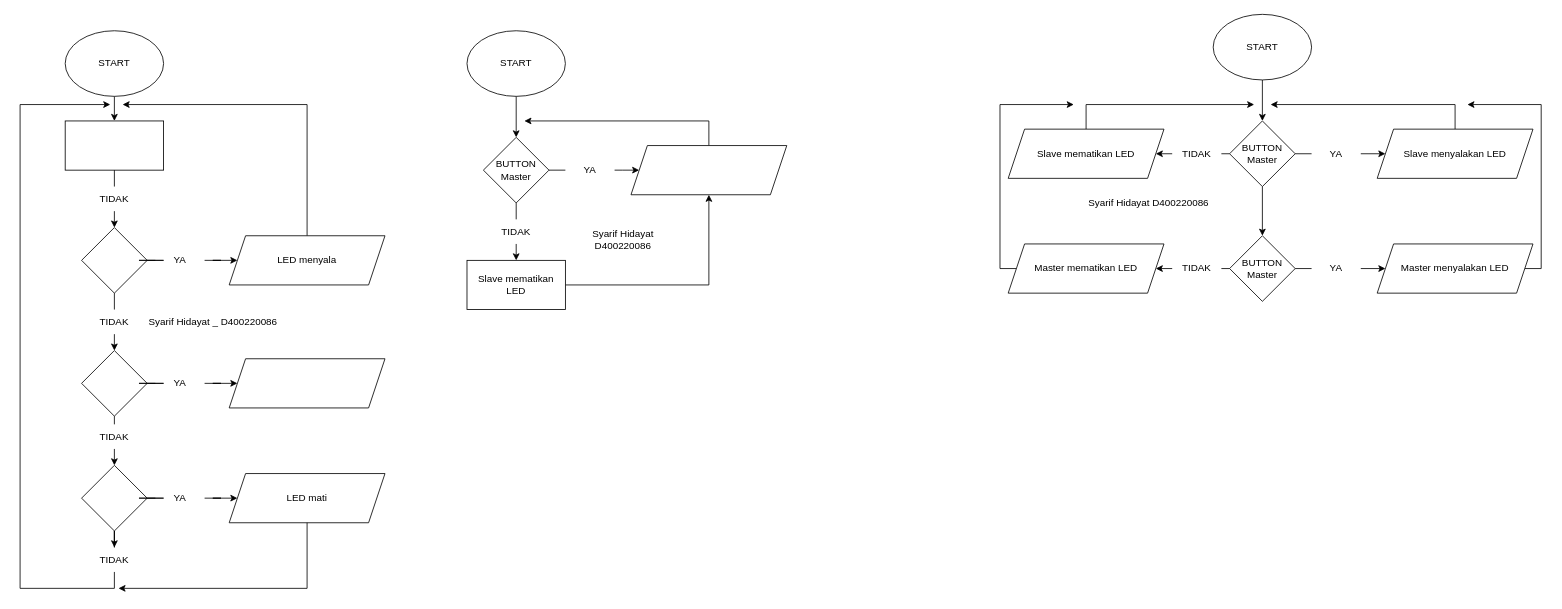
Image size: 1562x609. Some labels were removed from this diagram. Each missing label, with the centre of its shape:
"Berkedip" belongs at point 114,383.
"Hidup" belongs at point 114,260.
"LED berkedip selama 1 detik setelah itu LED mati" belongs at point 306,383.
"Master dan Slave aktif" belongs at point 114,145.
"Mati" belongs at point 114,498.
"Slave menerima data dan menyalakan LED" belongs at point 708,170.
